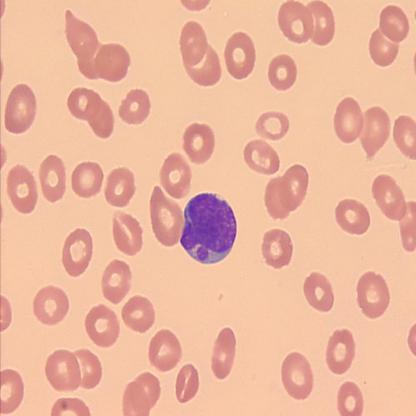NRC: (179, 190, 239, 268)
